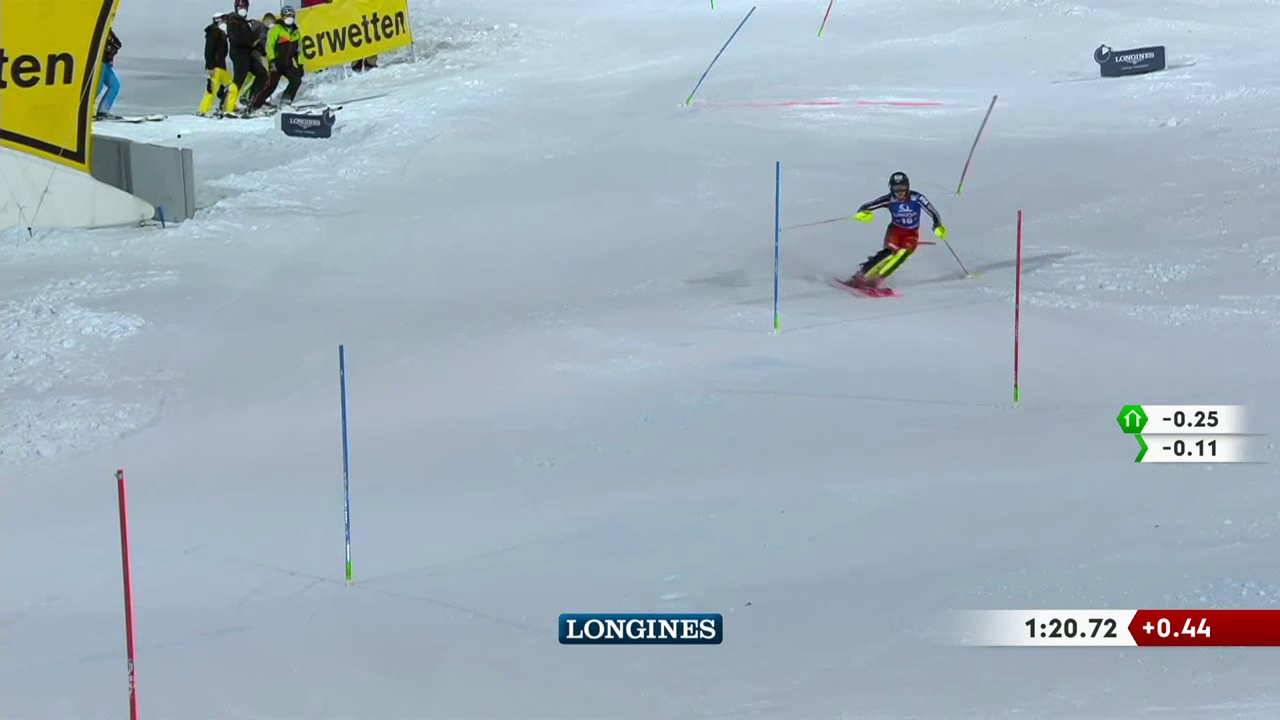interwetten: (1, 7, 127, 145)
longines: (552, 612, 734, 647), (1101, 47, 1167, 71)
raiffeisen: (268, 1, 415, 81)
